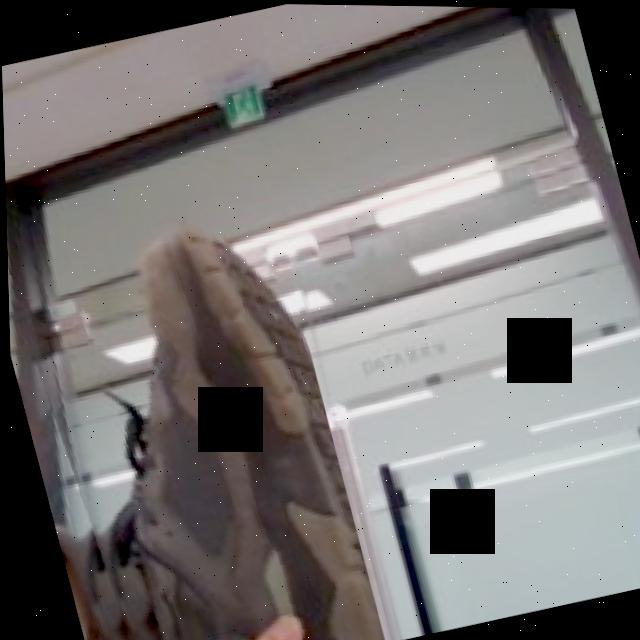shoe: (5, 206, 382, 640)
